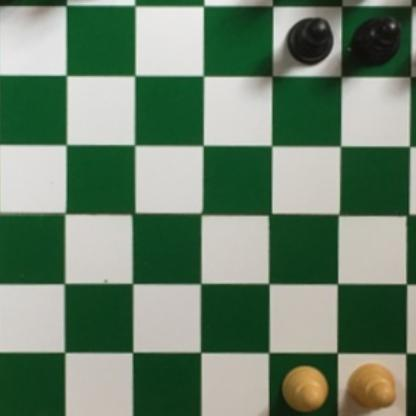black-pawn: (350, 10, 403, 68), (284, 12, 336, 65)
white-pawn: (347, 361, 396, 409), (280, 362, 326, 411)
